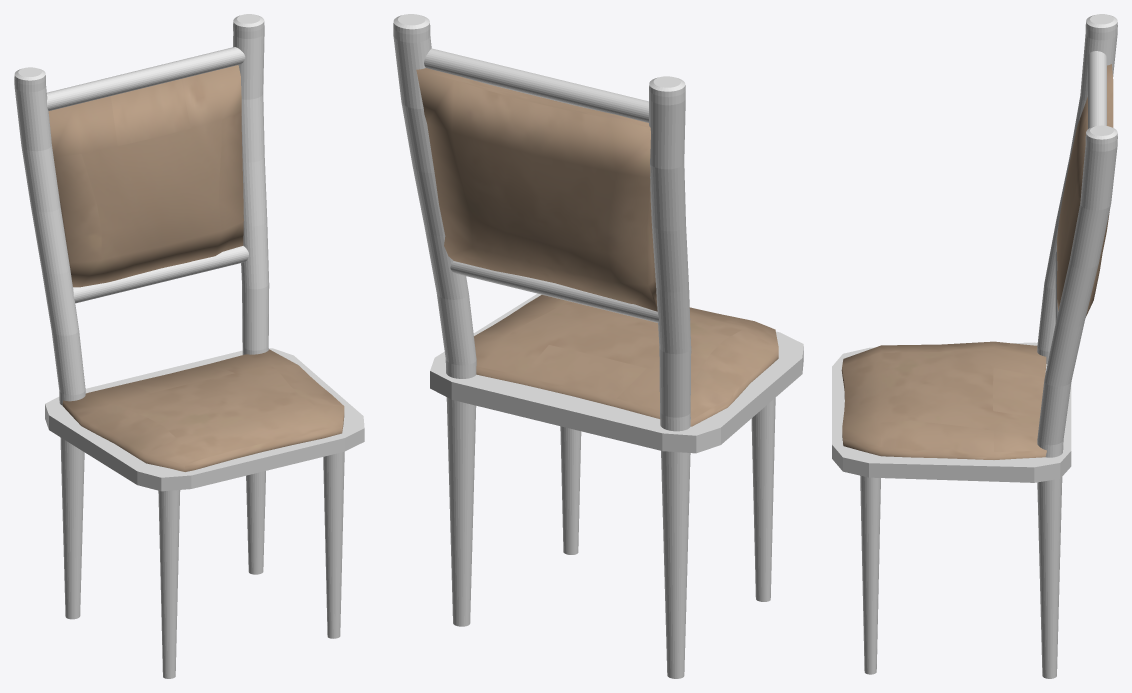
The model's file is chair.fbx.
3 views of the same model, side by side, from view 1: azimuth 30°, elevation 25°; view 2: azimuth 150°, elevation 25°; view 3: azimuth 270°, elevation 25° (orthographic). The views are drawn at different scales.
Parts seen in each view (by area): view 1: Cube.041, Cube.012, Cube.016; view 2: Cube.041, Cube.012, Cube.016; view 3: Cube.041, Cube.016, Cube.012.
Part boxes in pixels (x1=…): Cube.041: x1=14, y1=14, x2=364, y2=678; Cube.012: x1=48, y1=65, x2=243, y2=287; Cube.016: x1=62, y1=349, x2=344, y2=471; Cube.041: x1=393, y1=14, x2=803, y2=678; Cube.012: x1=416, y1=68, x2=657, y2=311; Cube.016: x1=474, y1=295, x2=778, y2=426; Cube.041: x1=832, y1=14, x2=1117, y2=678; Cube.016: x1=841, y1=341, x2=1046, y2=459; Cube.012: x1=1056, y1=64, x2=1113, y2=317.
Size of the model in its own units: 1.26 by 2.59 by 1.21.
